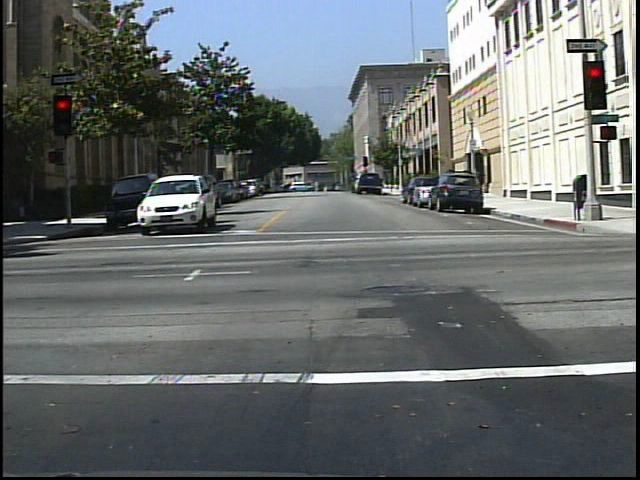person: (310, 176, 324, 198)
